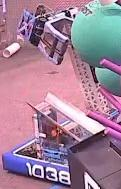blue_number: (25, 161, 72, 187)
